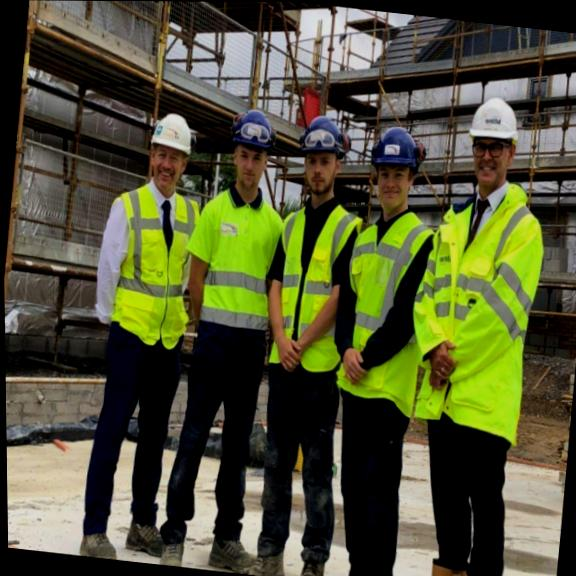safety_vest: (413, 174, 545, 415), (335, 195, 438, 398), (96, 168, 202, 352), (267, 183, 362, 377), (190, 183, 286, 363)
